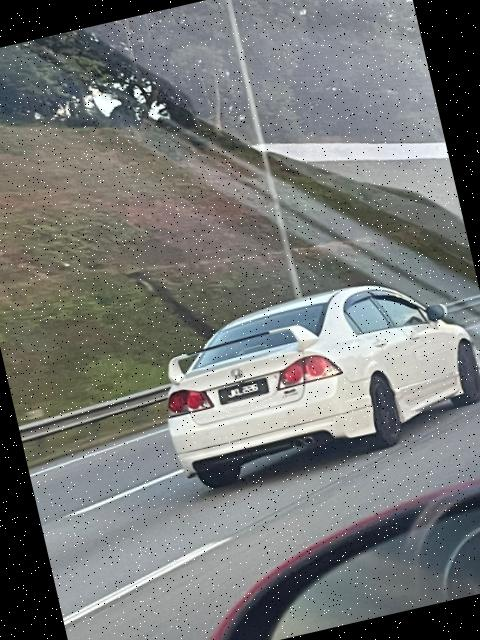License_Plate: (213, 374, 272, 413)
car: (145, 259, 480, 494)
